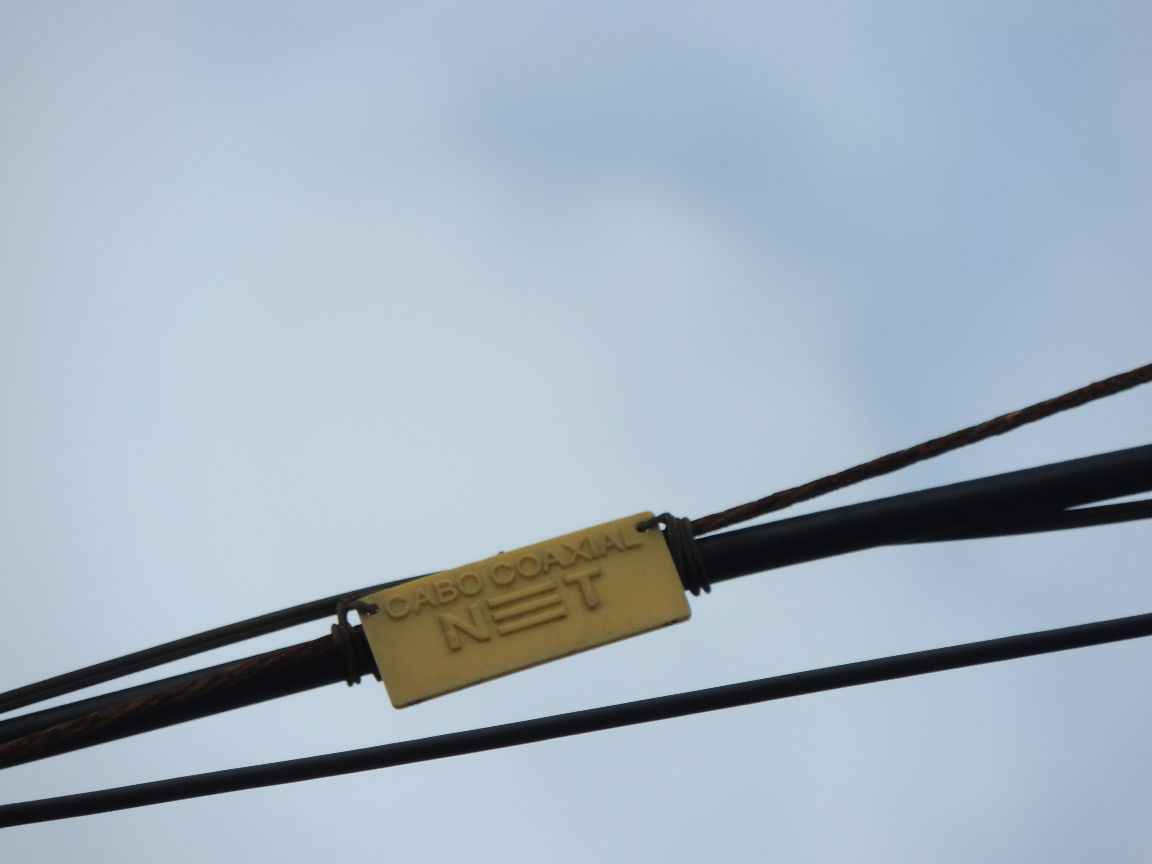coaxial: (270, 489, 706, 712)
